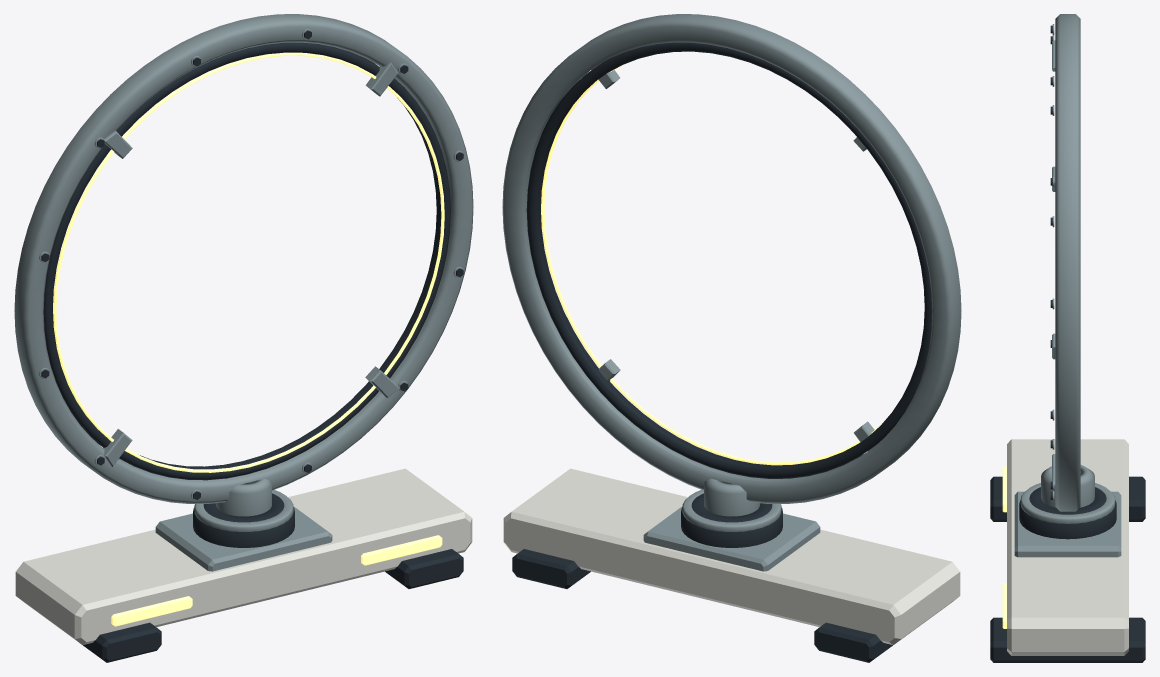
The model's file is optical-trunnion-gimbal.glb.
The picture shows the model from 3 angles, left to right: view 1: azimuth 30°, elevation 25°; view 2: azimuth 150°, elevation 25°; view 3: azimuth 270°, elevation 25°; orthographic projection. The views are drawn at different scales.
Visible parts, largest first — view 1: optical-ring / alloy, optical-cradle / ceramic, optical-ring / graphite, optical-cradle / graphite, optical-cradle / alloy, optical-ring / signal, optical-cradle / signal; view 2: optical-ring / alloy, optical-cradle / ceramic, optical-ring / graphite, optical-cradle / graphite, optical-cradle / alloy, optical-ring / signal; view 3: optical-cradle / ceramic, optical-ring / alloy, optical-cradle / graphite, optical-cradle / alloy, optical-cradle / signal, optical-ring / graphite.
Part boxes in pixels (x1,y1,x2,y2): optical-ring / alloy: [14, 14, 473, 516]; optical-cradle / ceramic: [15, 468, 472, 645]; optical-ring / graphite: [41, 30, 463, 499]; optical-cradle / graphite: [83, 493, 463, 662]; optical-cradle / alloy: [155, 490, 332, 571]; optical-ring / signal: [53, 52, 444, 472]; optical-cradle / signal: [111, 535, 442, 626]; optical-ring / alloy: [502, 14, 961, 516]; optical-cradle / ceramic: [503, 468, 960, 645]; optical-ring / graphite: [526, 42, 932, 478]; optical-cradle / graphite: [512, 493, 892, 662]; optical-cradle / alloy: [643, 490, 820, 571]; optical-ring / signal: [541, 64, 883, 465]; optical-cradle / ceramic: [1007, 439, 1128, 655]; optical-ring / alloy: [1041, 14, 1094, 511]; optical-cradle / graphite: [990, 476, 1145, 662]; optical-cradle / alloy: [1014, 483, 1121, 557]; optical-cradle / signal: [1002, 466, 1006, 628]; optical-ring / graphite: [1050, 25, 1052, 499].
Size of the model in its own units: 3.88 by 4.67 by 1.21.
